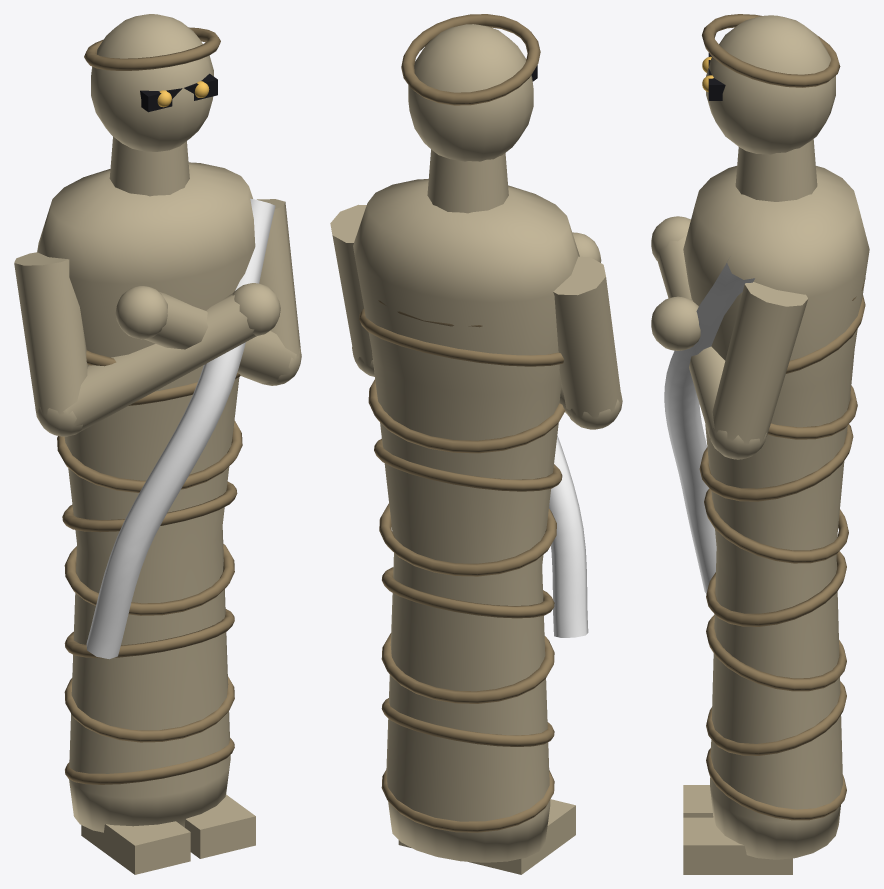
The model's file is guardian-mummy.glb.
The picture shows the model from 3 angles, left to right: view 1: azimuth 30°, elevation 25°; view 2: azimuth 150°, elevation 25°; view 3: azimuth 270°, elevation 25°; orthographic projection.
Visible parts, largest first — view 1: figurka; view 2: figurka; view 3: figurka.
Part boxes in pixels (box(x1,y1,x2,y2)): figurka: box(14, 14, 301, 874); figurka: box(330, 14, 622, 874); figurka: box(651, 14, 869, 874).
Bounding box in the file's own units: 0.281 × 0.831 × 0.1994.
